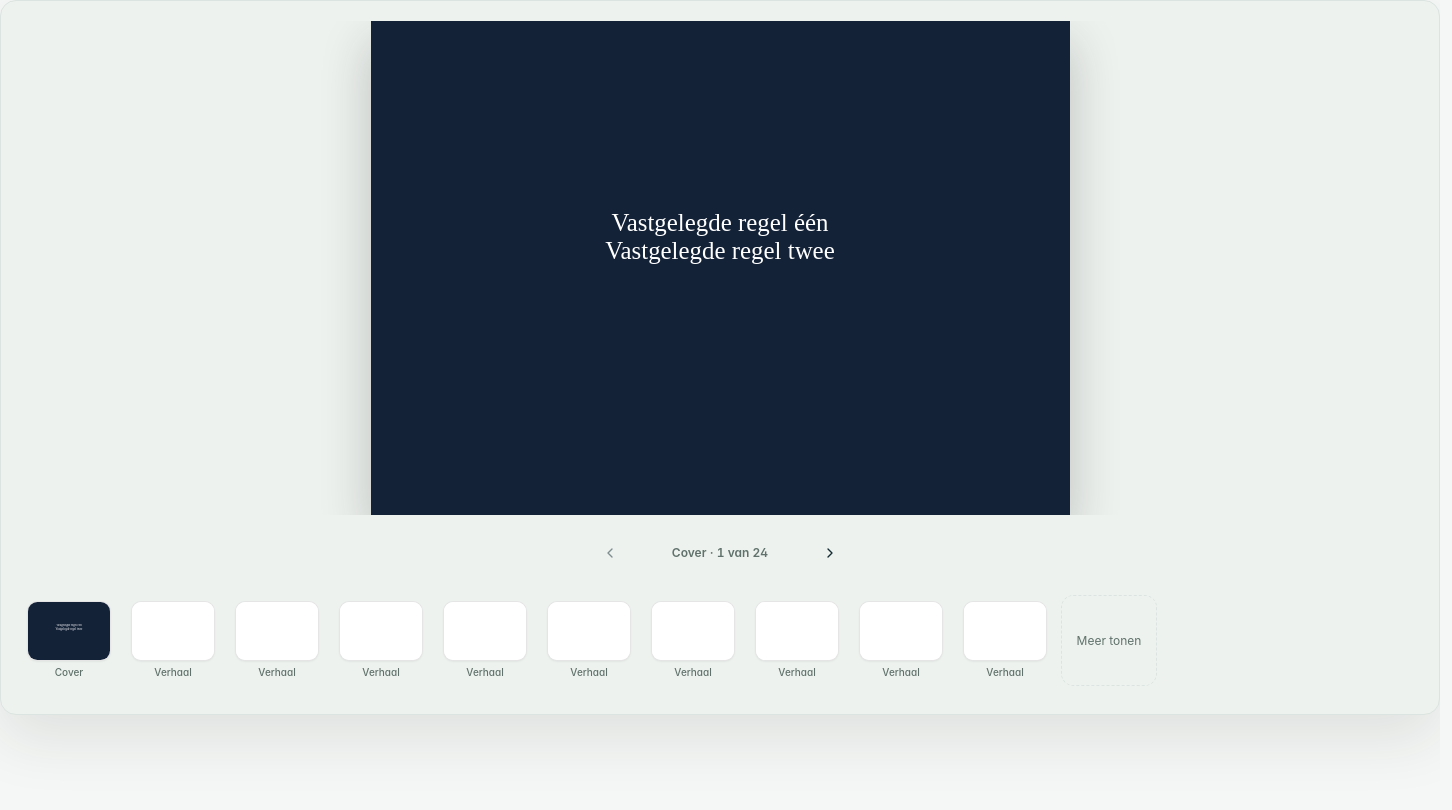
Test case: PhotobookViewer › toont de cover los en daarna echte gebonden spreads op desktop
Expected: the text "Cover · 1 van 24" is shown, 672,545 -> 768,560
Click the button named "Volgende pagina": point(830, 553) 808,531 -> 852,575
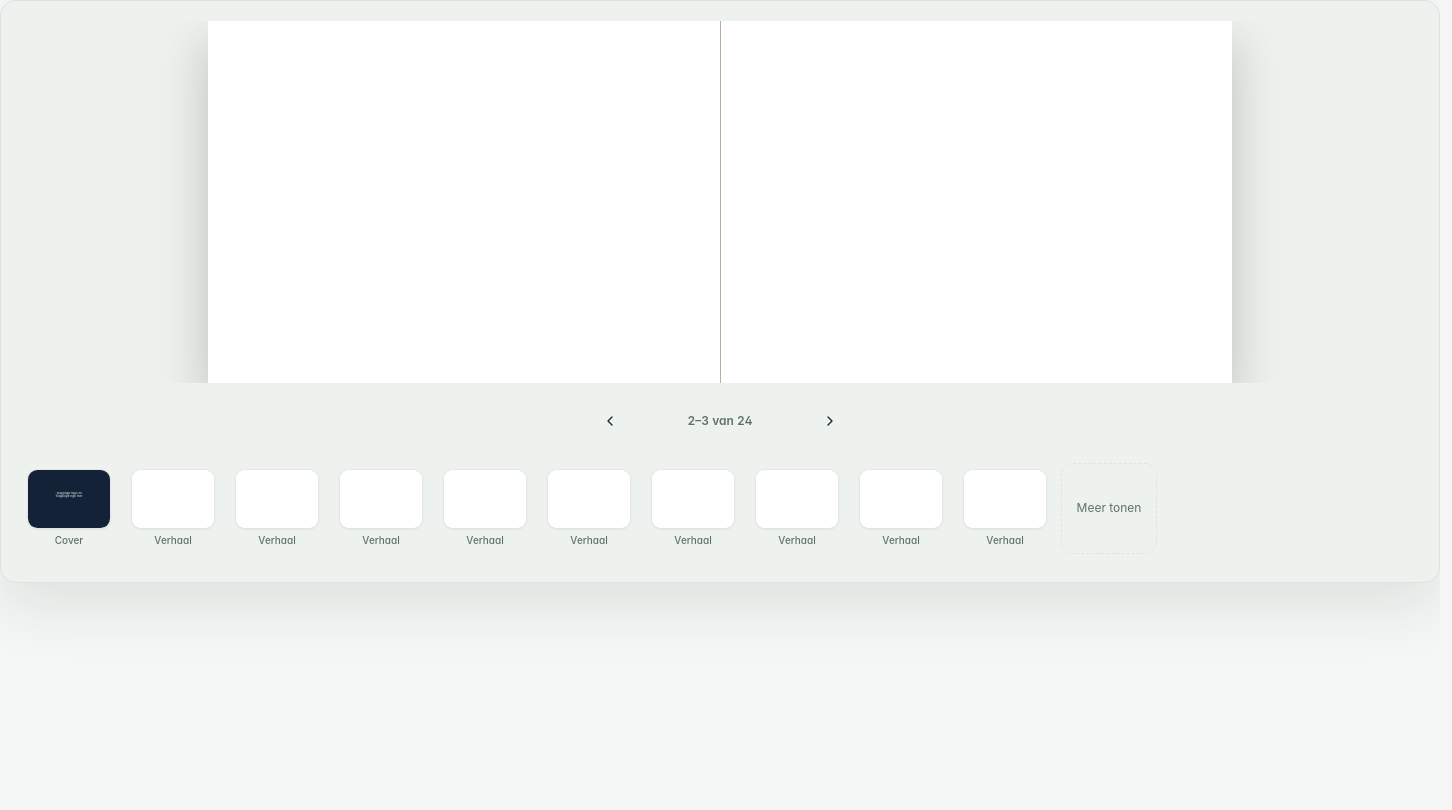
Expected: the text "2–3 van 24" is shown, 687,413 -> 753,428
Click the button named "Vorige pagina": point(610, 421) 588,399 -> 632,443
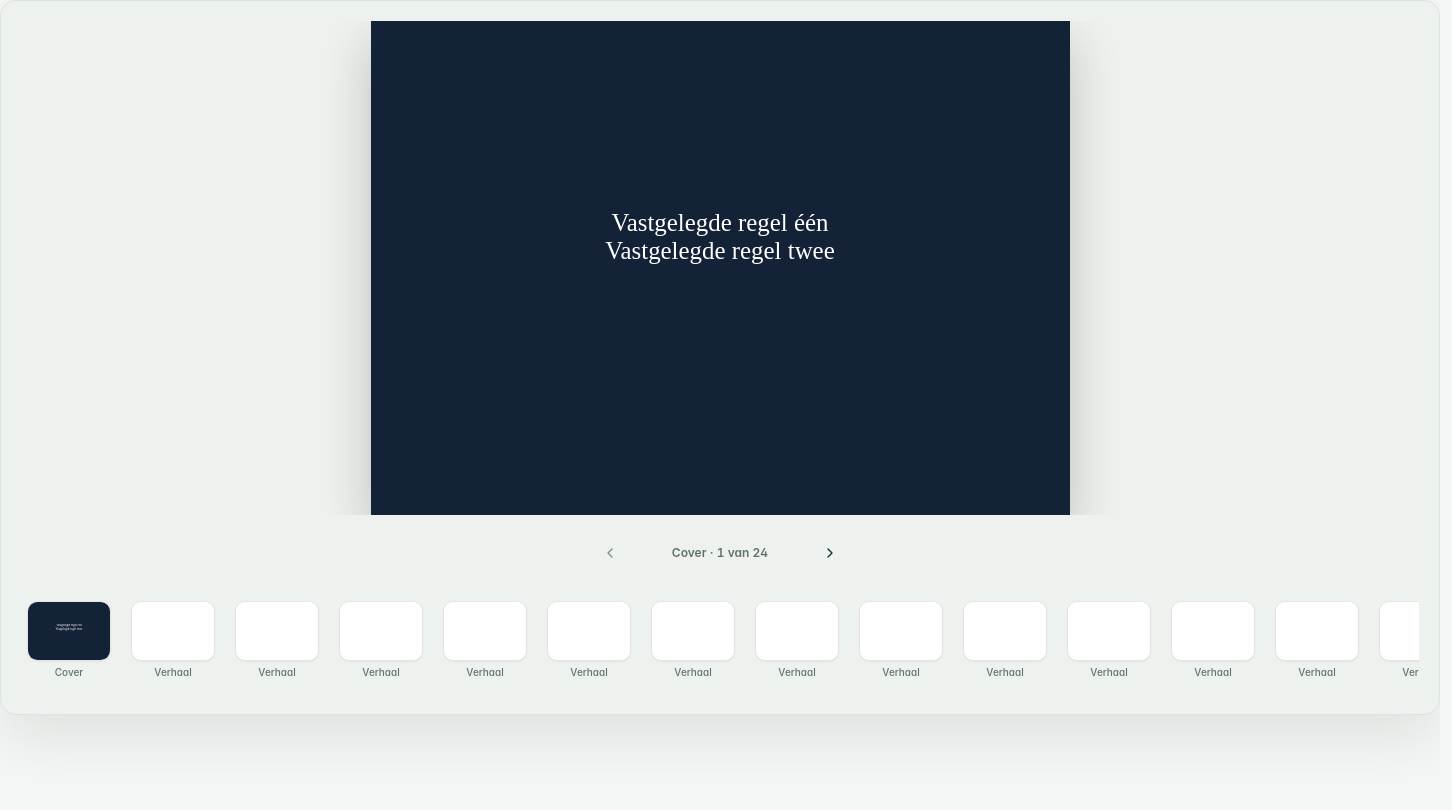
Expected: the text "Cover · 1 van 24" is shown, 672,545 -> 768,560
